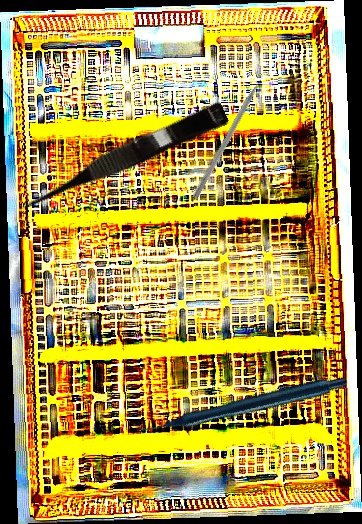Handpiece: (130, 306, 350, 499)
Micro Scissor: (13, 95, 230, 219)
Pusher: (192, 66, 271, 200)
